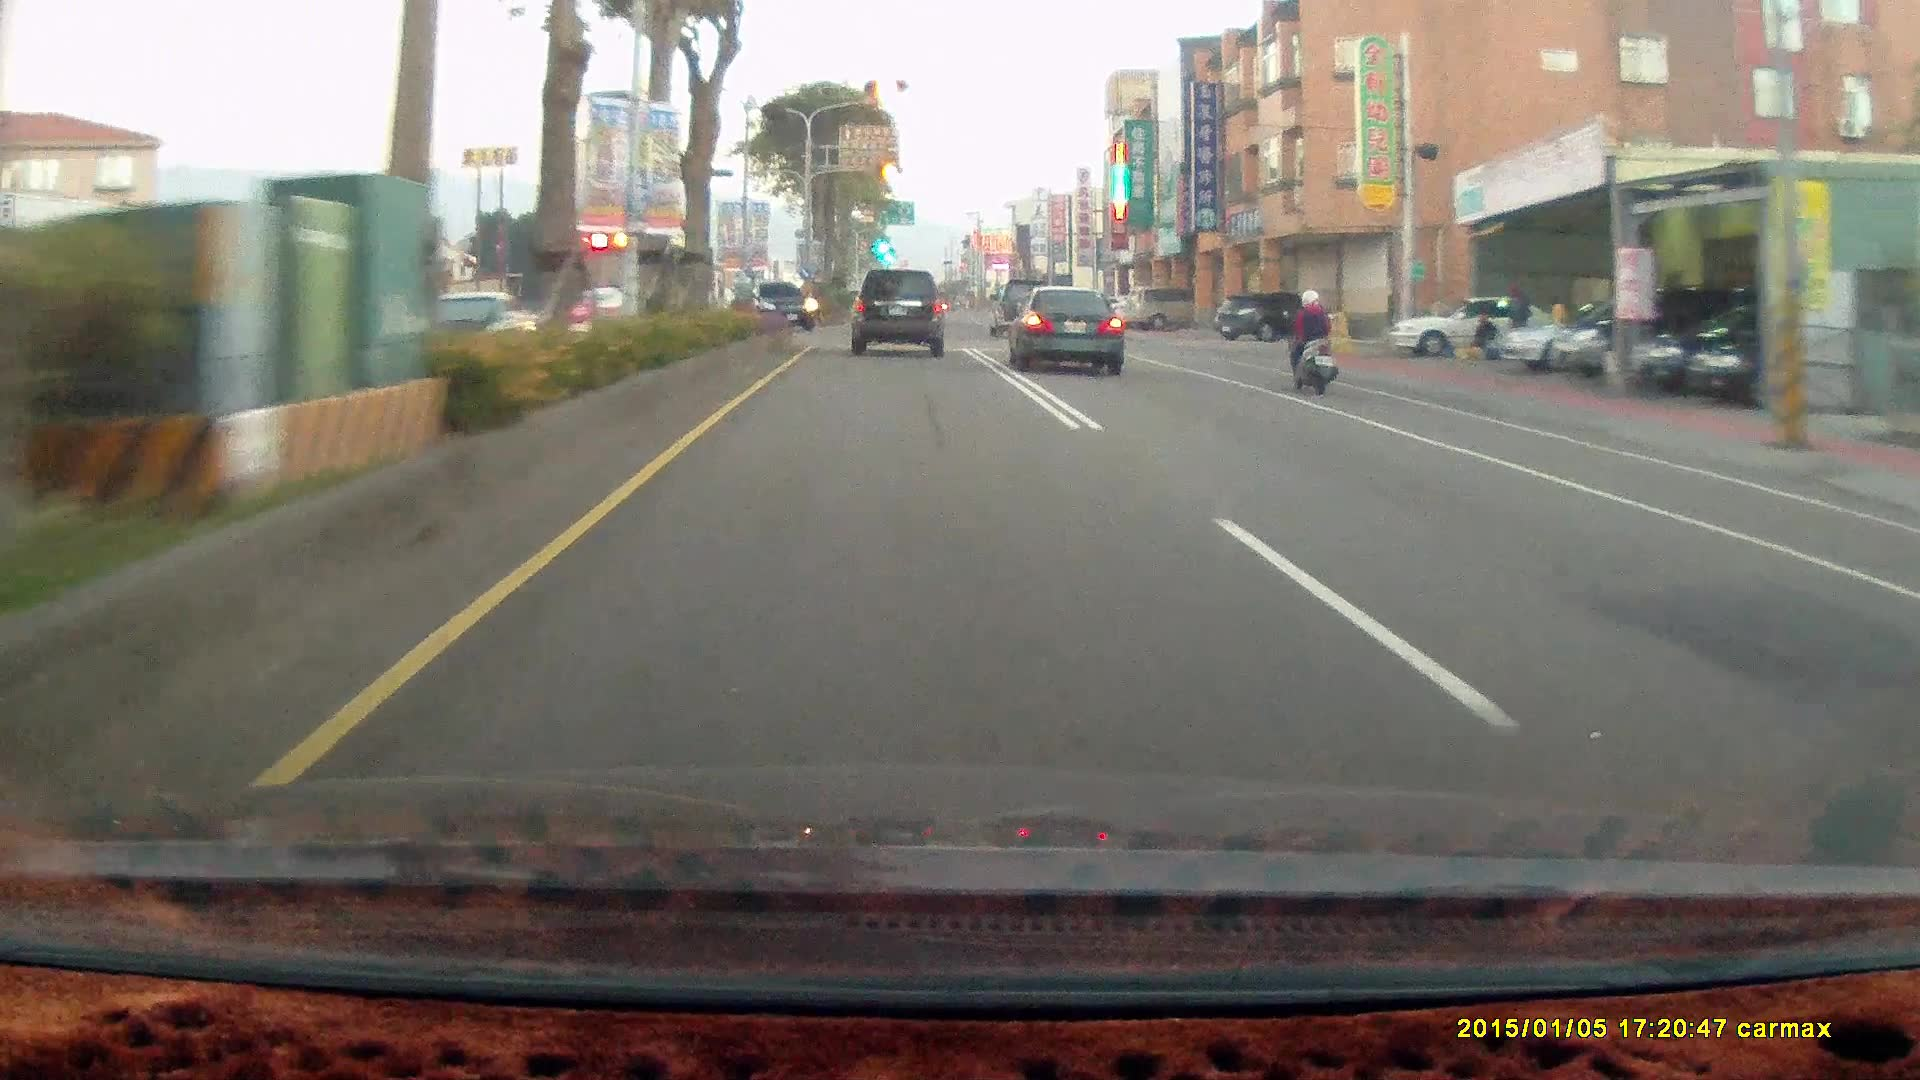pedestrian: (1505, 282, 1528, 358), (1471, 312, 1498, 362)
rider: (1274, 277, 1349, 406), (1280, 287, 1338, 394)
vehicle: (1694, 304, 1904, 411), (1629, 307, 1850, 400), (560, 228, 711, 339), (1552, 289, 1733, 380), (1500, 299, 1692, 375), (1381, 292, 1566, 367), (1385, 292, 1560, 358), (1017, 294, 1134, 390), (1003, 283, 1123, 373), (405, 288, 538, 365), (849, 276, 949, 366), (848, 270, 943, 356), (1216, 293, 1339, 348), (1210, 294, 1328, 344), (1121, 284, 1211, 333), (743, 282, 820, 335), (743, 282, 817, 332), (986, 281, 1051, 338)
